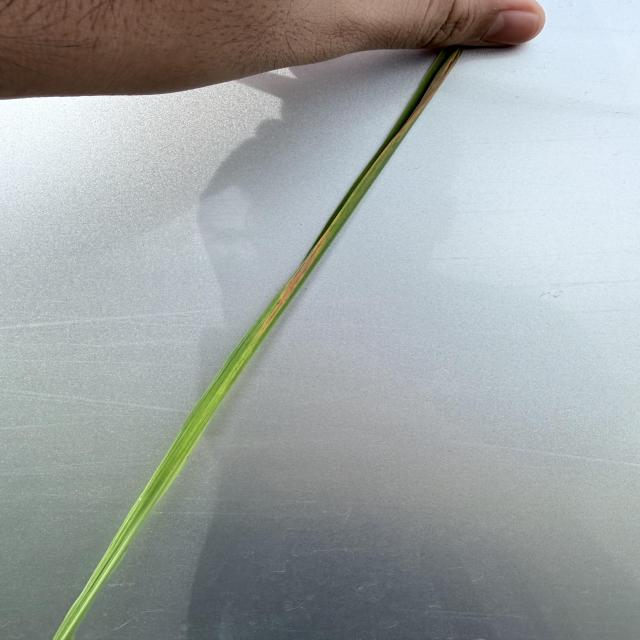Chay bia la: (254, 234, 326, 339), (396, 49, 460, 138)
